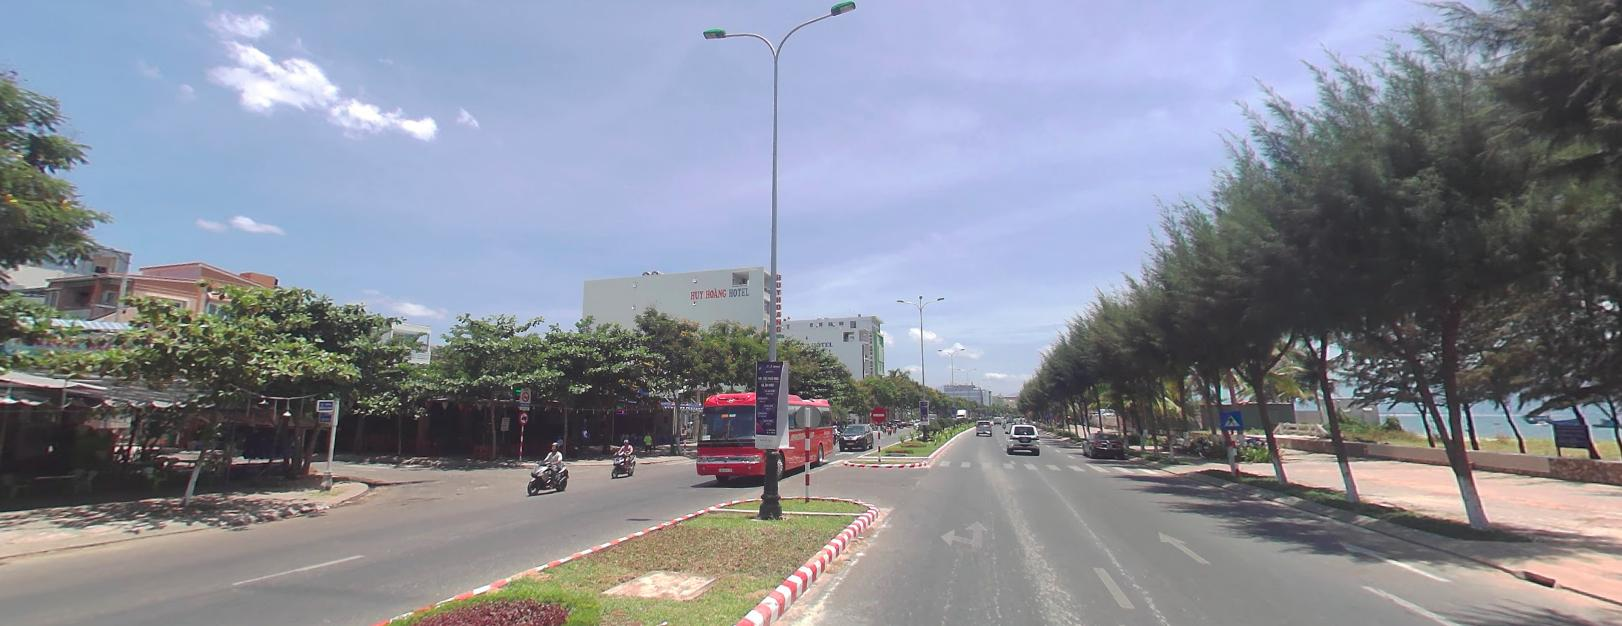Cam nguoc chieu: (871, 405, 885, 420)
